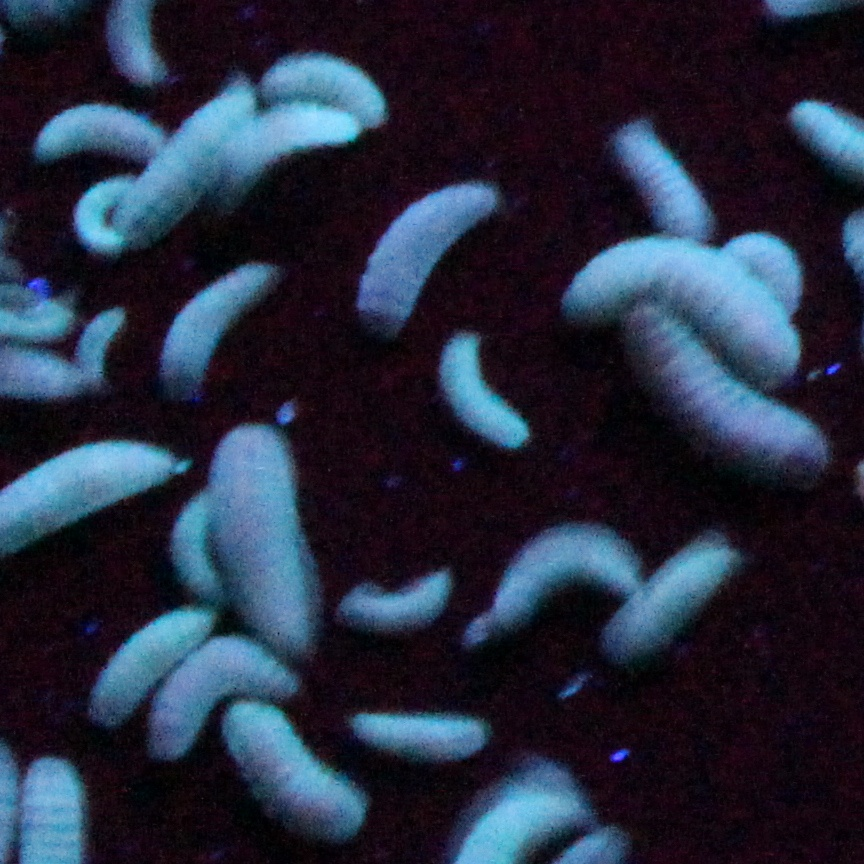larve: (625, 309, 829, 483), (565, 250, 799, 377), (355, 181, 500, 326), (217, 429, 311, 645), (221, 705, 360, 838), (139, 84, 247, 245), (158, 639, 299, 750), (164, 262, 270, 389), (89, 607, 209, 719), (223, 100, 353, 203), (499, 525, 629, 621), (627, 534, 730, 650), (612, 122, 717, 235), (441, 336, 530, 452), (268, 56, 383, 123), (36, 107, 165, 162), (340, 573, 450, 629), (353, 713, 486, 759), (73, 168, 134, 256), (165, 491, 214, 596), (76, 307, 124, 389)
